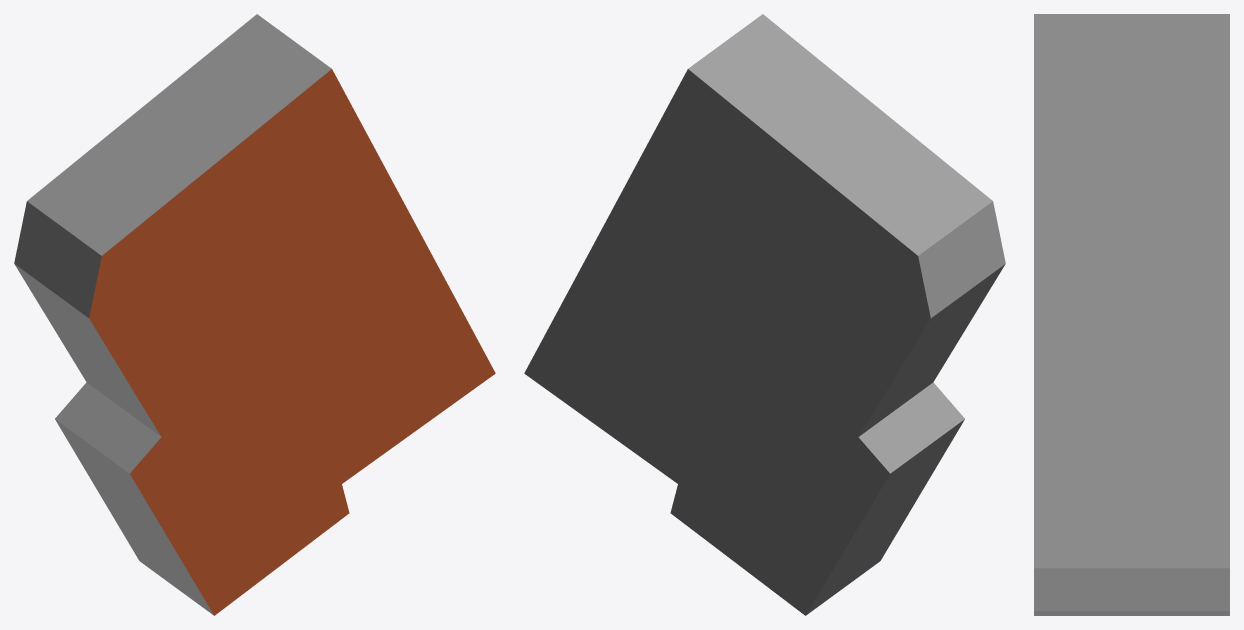
File: construction_6757_assumed_A_Casa_h6m.obj
3 views of the same model, side by side, from view 1: azimuth 30°, elevation 25°; view 2: azimuth 150°, elevation 25°; view 3: azimuth 270°, elevation 25° (orthographic). The views are drawn at different scales.
Parts seen in each view (by area): view 1: construction_6757_assumed_A_Casa; view 2: construction_6757_assumed_A_Casa; view 3: construction_6757_assumed_A_Casa.
Part boxes in pixels (box(x1,y1,x2,y2)): construction_6757_assumed_A_Casa: box(14, 14, 495, 615); construction_6757_assumed_A_Casa: box(524, 14, 1005, 615); construction_6757_assumed_A_Casa: box(1034, 14, 1229, 615).
Bounding box in the file's own units: 18.8 × 22.89 × 6.
